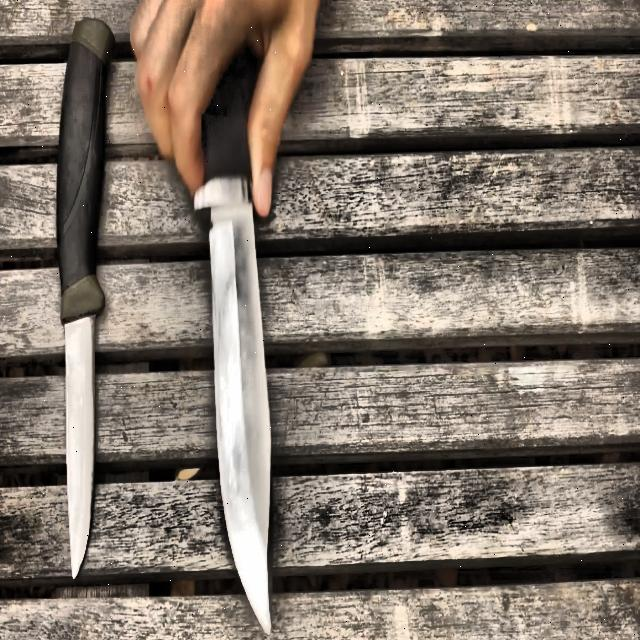knife: (192, 42, 272, 631), (59, 22, 114, 580)
